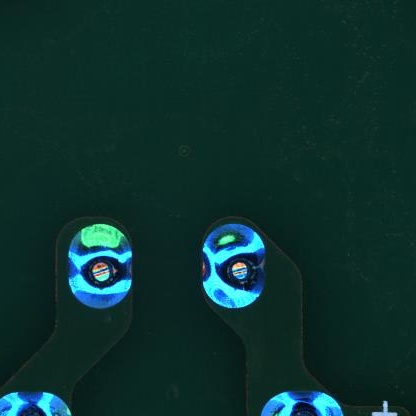spot: (198, 223, 268, 310), (66, 222, 133, 309), (256, 388, 345, 416), (1, 390, 70, 416)
